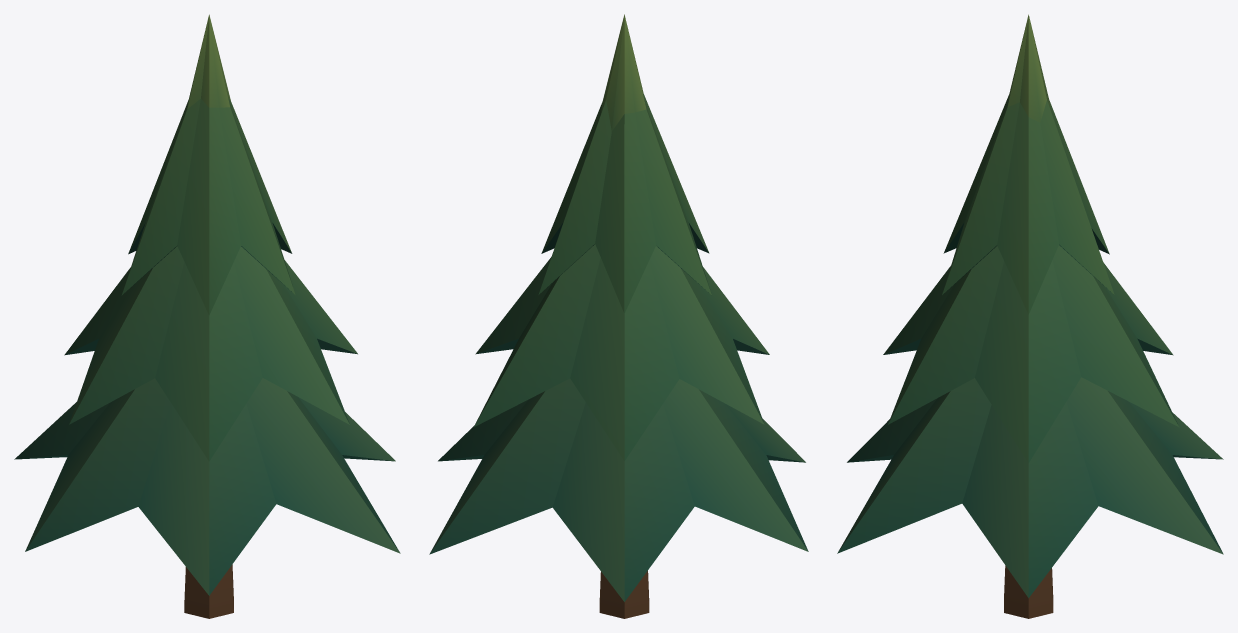
3 renders of one model, left to right at view 1: azimuth 30°, elevation 25°; view 2: azimuth 150°, elevation 25°; view 3: azimuth 270°, elevation 25°, orthographic.
Visible parts, largest first — view 1: prop_pine_young; view 2: prop_pine_young; view 3: prop_pine_young.
Boxes of the visible parts, x1,y1,x2,y2 form: prop_pine_young: [14, 14, 400, 618]; prop_pine_young: [429, 14, 808, 618]; prop_pine_young: [837, 14, 1223, 618].
Size of the model in its own units: 4.59 by 7 by 4.14.
